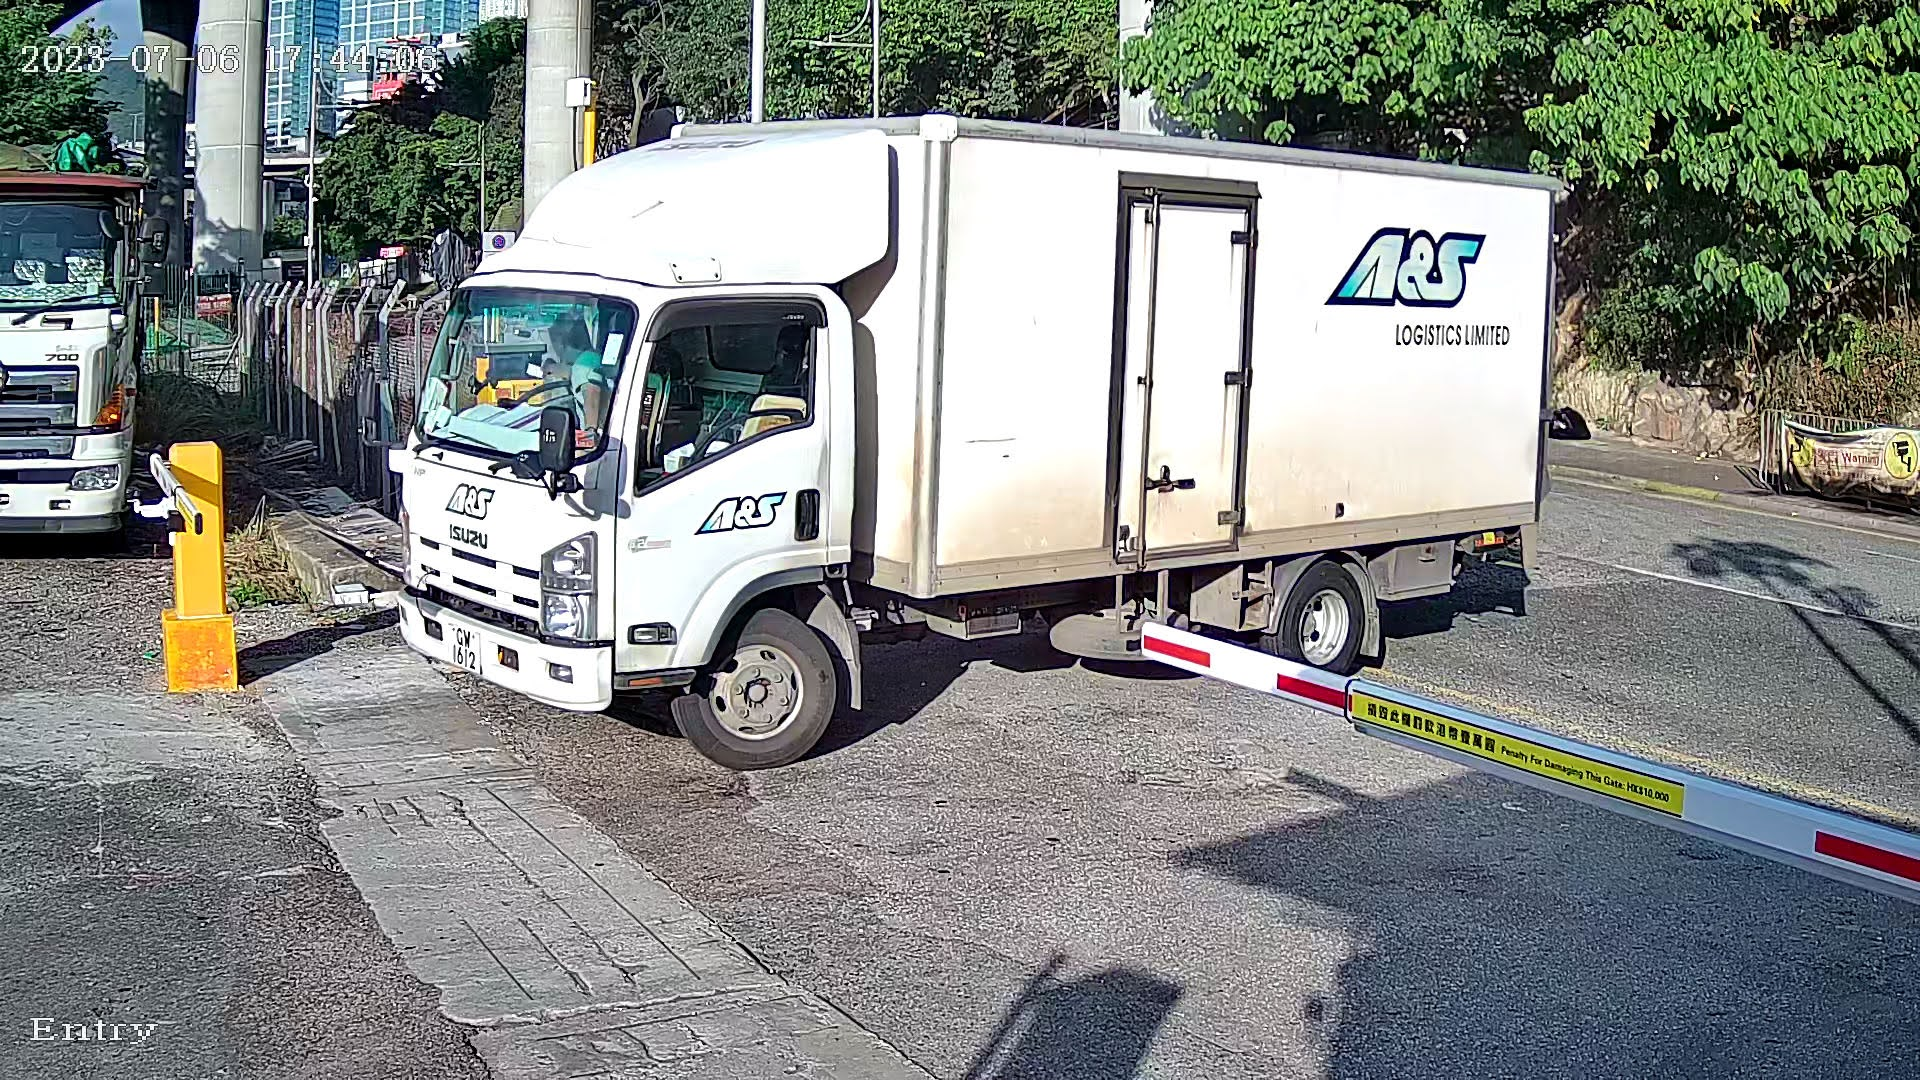truck: (388, 117, 1585, 789)
